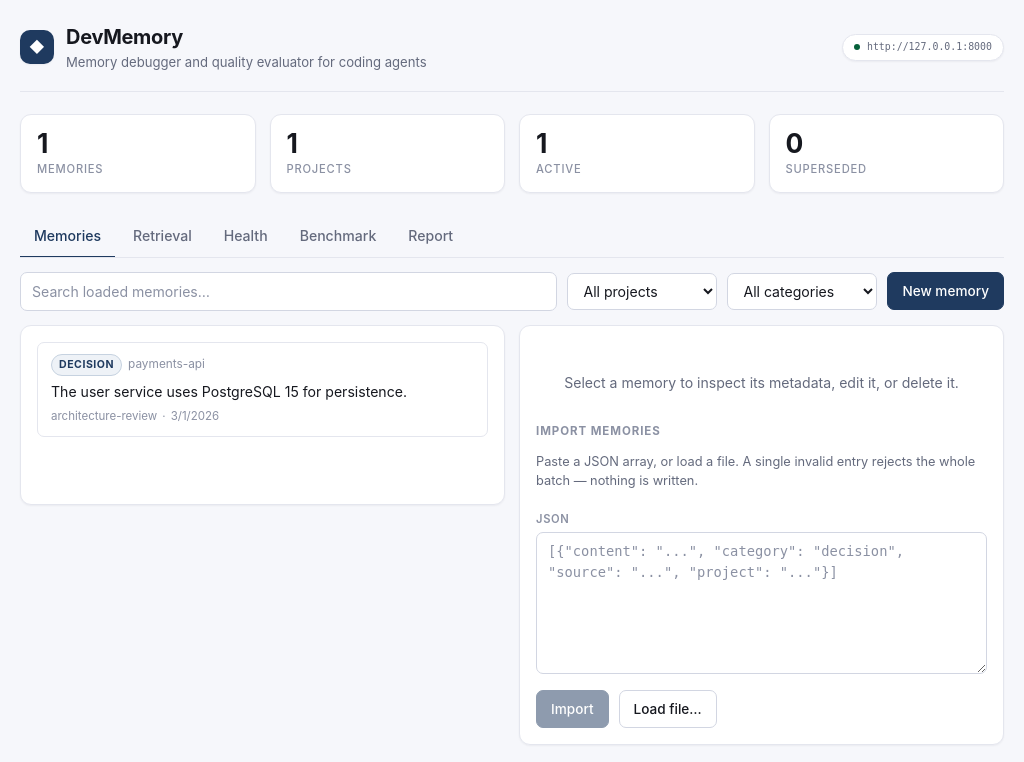
Test: detail, edit and delete › opens a memory's metadata when selected
This screenshot has width=1024, height=762.
Step 1. Click the button "uses PostgreSQL" → (262, 390), box [37, 342, 488, 437]
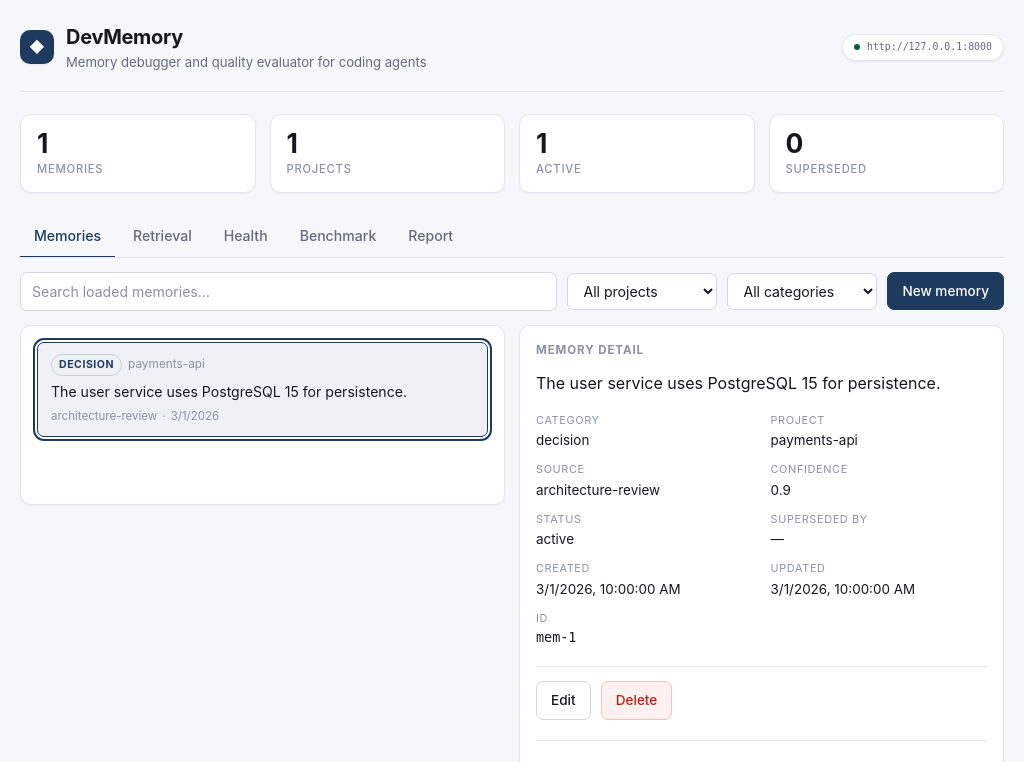
Now the text "mem-1" is shown, box [536, 630, 576, 645]
Now the text "architecture-review" below "Source" is shown, box [536, 482, 660, 498]
